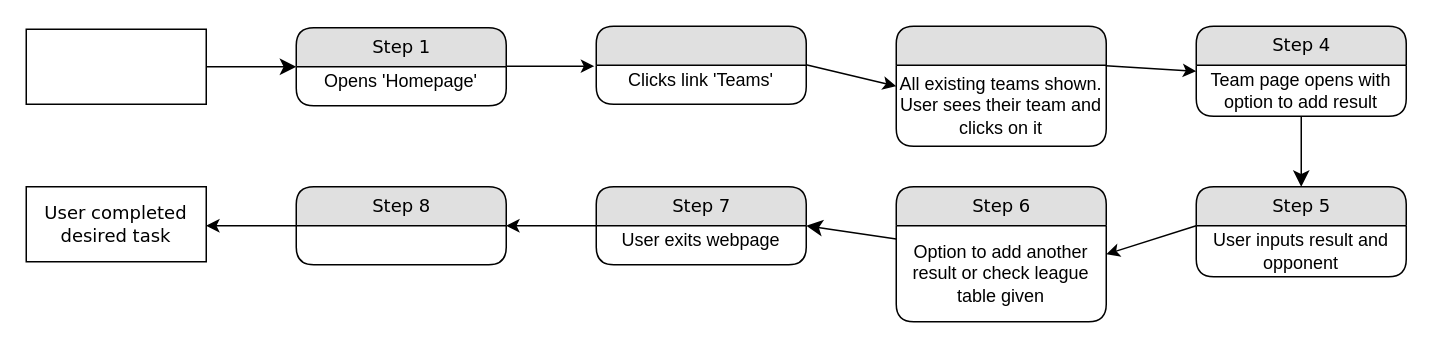
This 1433x348 diagram has some shape labels left out. Each missing label, with the box of its shape:
Step 2: (595, 25, 806, 104)
Step 3: (895, 25, 1106, 146)
User wants to add a result to an existing team: (25, 28, 206, 104)
